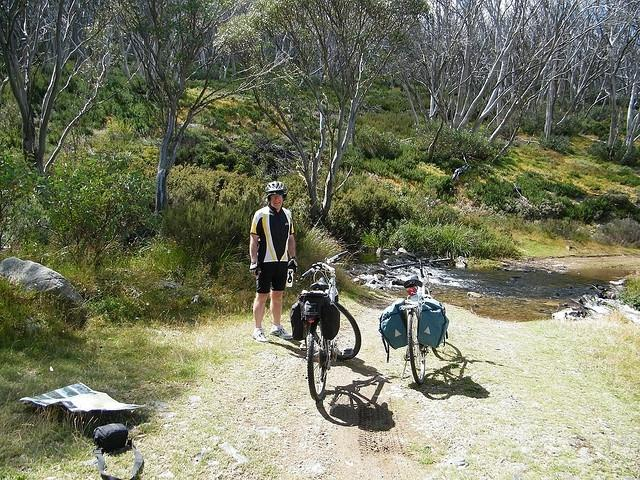non-vehicle: (379, 255, 454, 387), (300, 250, 362, 401)
